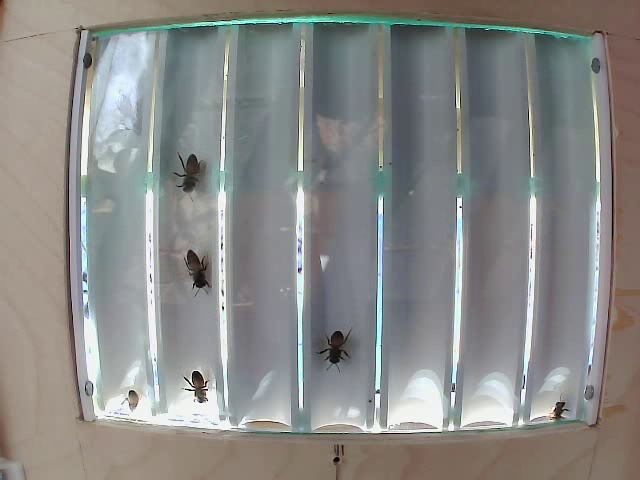bee: (306, 312, 355, 373), (174, 237, 214, 302), (170, 143, 212, 198), (175, 358, 209, 403)
